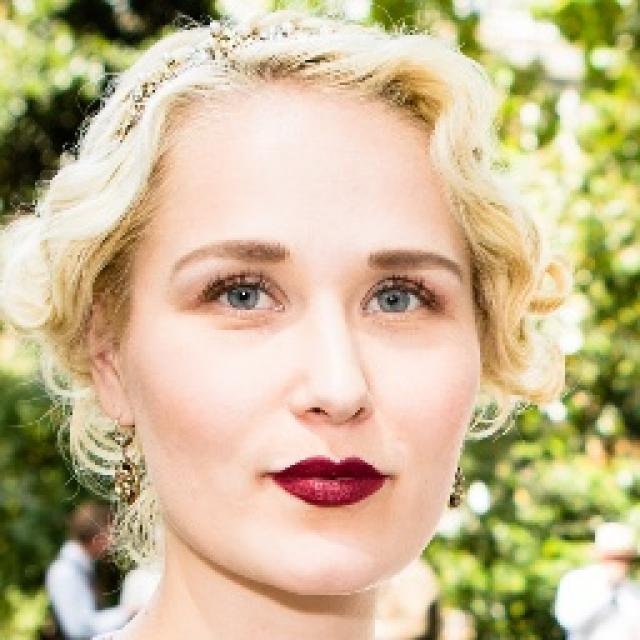earlobe: (82, 288, 137, 428)
